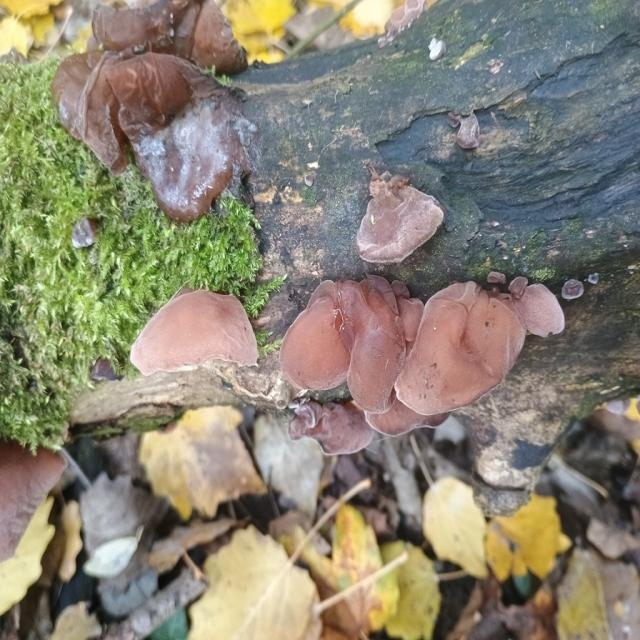Matang: (292, 260, 566, 461), (49, 0, 262, 219), (139, 280, 260, 392), (350, 155, 448, 262)
